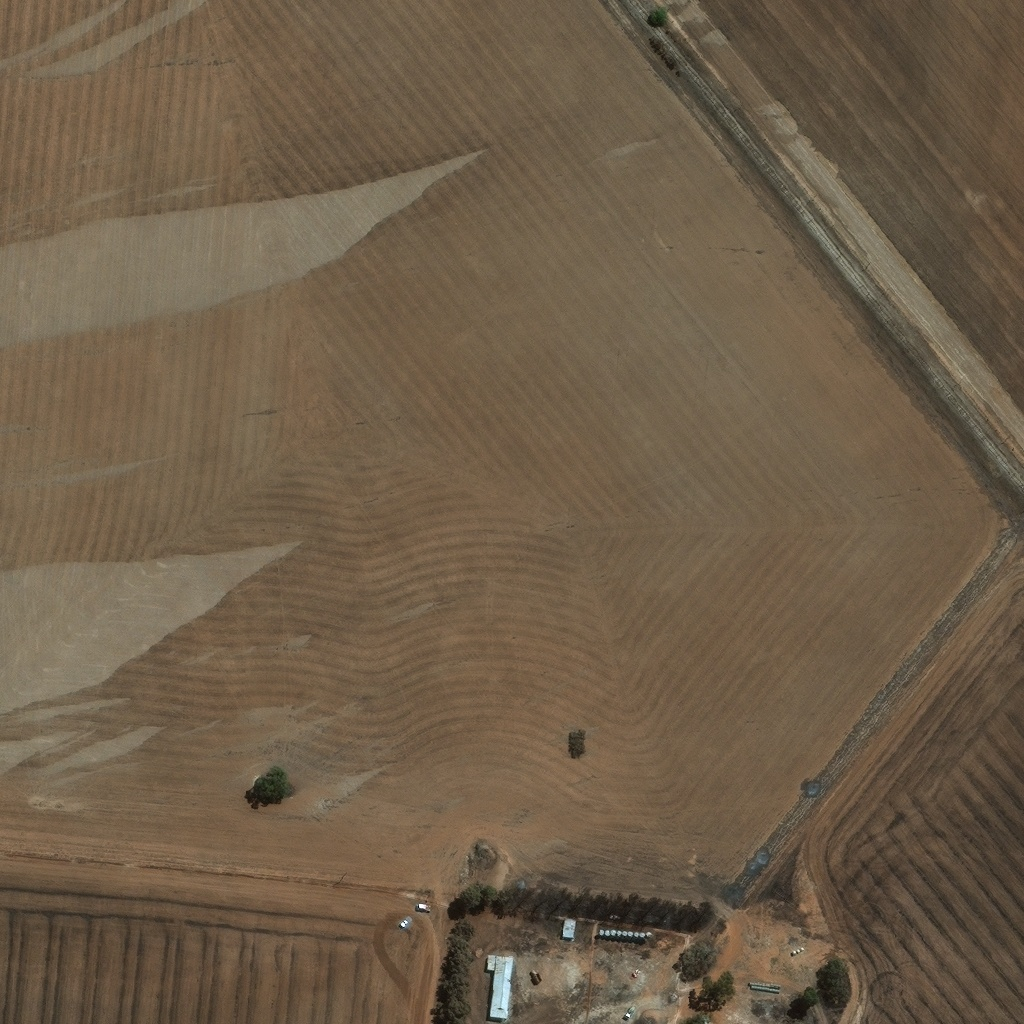0 no-damage: (487, 951, 515, 1017), (562, 915, 578, 935), (628, 931, 634, 937), (599, 929, 605, 934), (606, 929, 611, 935), (612, 929, 617, 935), (623, 931, 628, 937), (635, 932, 640, 937), (618, 930, 622, 936), (641, 932, 645, 938)
4 un-classified: (693, 1014, 712, 1023)
